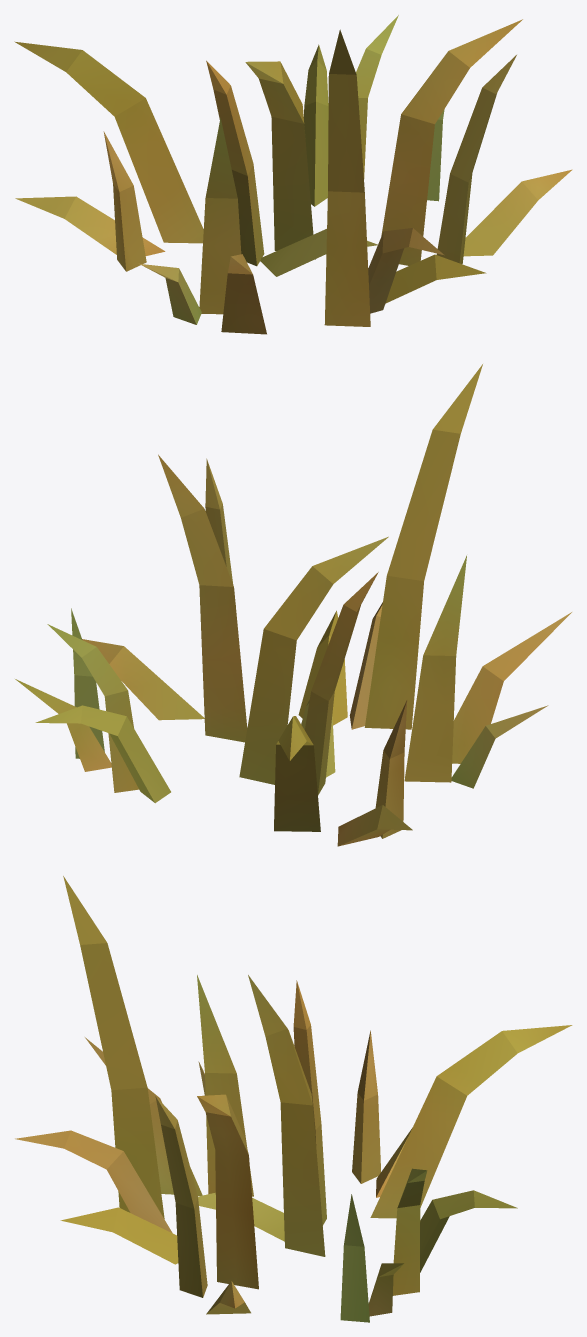
The model's file is mega-pack-cylinder-017.glb.
The picture shows the model from 3 angles, top to bottom: view 1: azimuth 30°, elevation 25°; view 2: azimuth 150°, elevation 25°; view 3: azimuth 270°, elevation 25°; orthographic projection. The views are drawn at different scales.
Visible parts, largest first — view 1: Cylinder.017; view 2: Cylinder.017; view 3: Cylinder.017.
Part boxes in pixels (x1,y1,x2,y2): Cylinder.017: (14,15,572,334); Cylinder.017: (15,364,571,846); Cylinder.017: (15,876,572,1322).
Size of the model in its own units: 0.5914 by 0.417 by 0.6392.
1 material, 1 textured.
